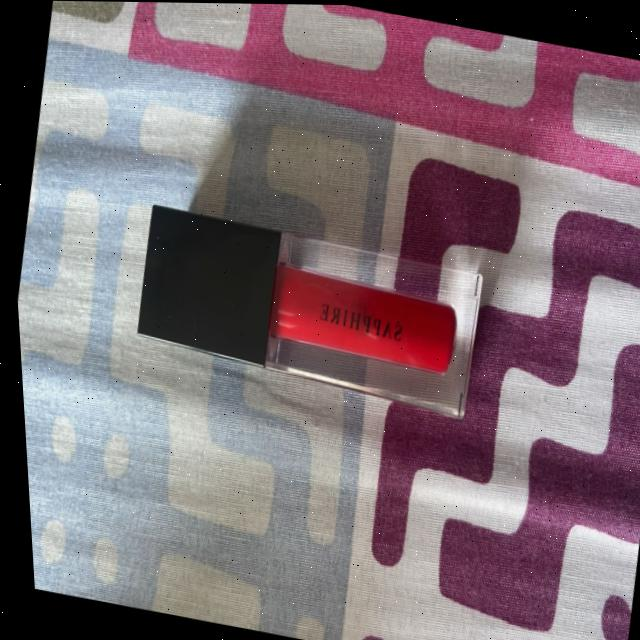lip gloss: (57, 125, 534, 473)
